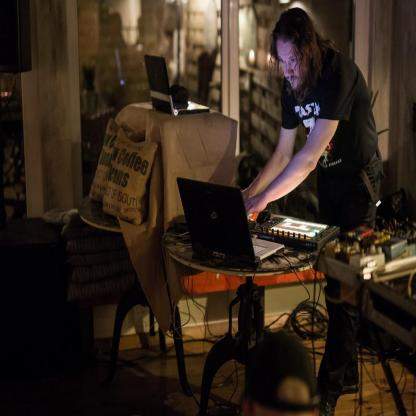board: (178, 172, 264, 261), (145, 56, 211, 114)
